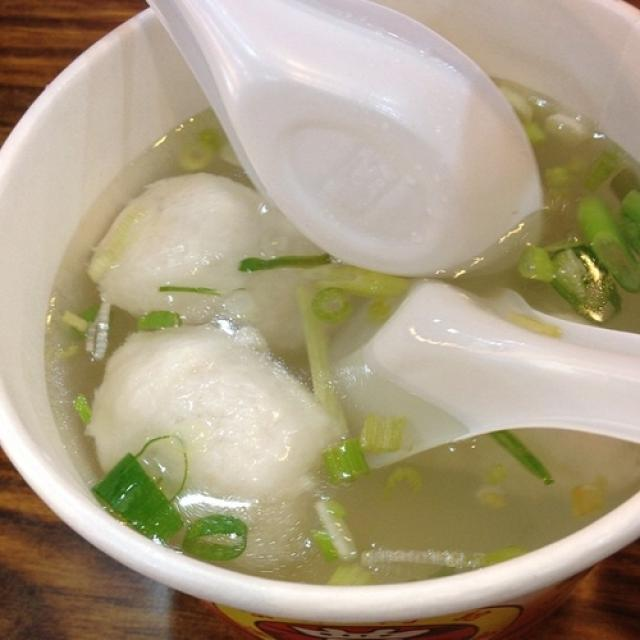熟制海鲜: (23, 18, 623, 602)
